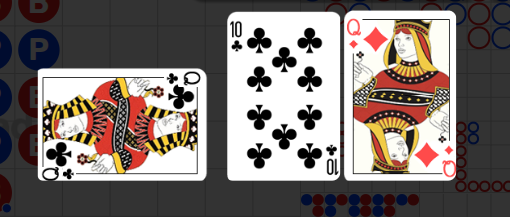10C: (230, 20, 245, 54)
JC: (44, 166, 76, 180)
QD: (400, 134, 444, 181), (333, 14, 377, 60)
